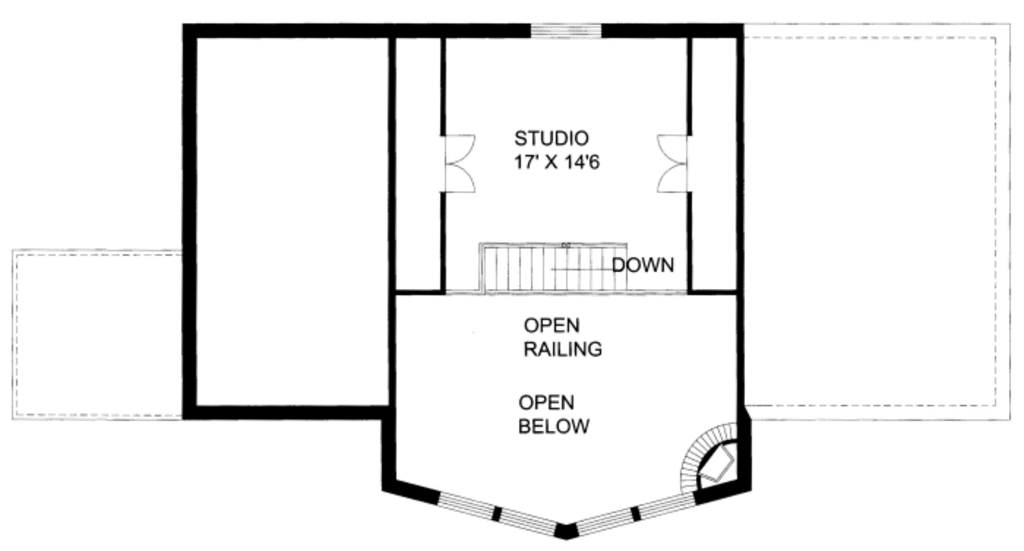door: (426, 121, 489, 206), (642, 129, 699, 198)
stairs: (466, 218, 653, 302)
window: (427, 481, 562, 544), (570, 482, 702, 532), (530, 18, 599, 42)
